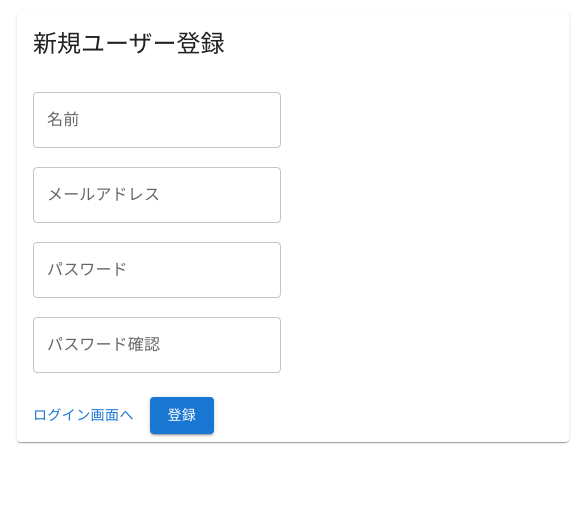
Test: TalkRoomListItem › NewUserPassword › 文字数不足でエラー
Type "hoge" into the field with test id "NewUserPassword" at [157, 270], box [33, 242, 281, 298]
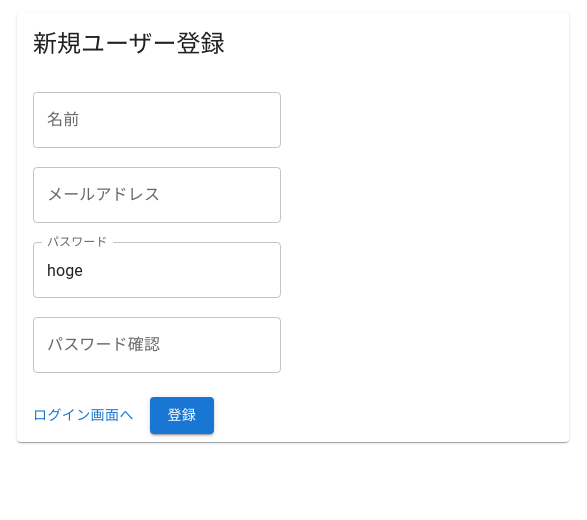
Click the button with test id "submitBtn" at [182, 415], box [150, 397, 214, 434]
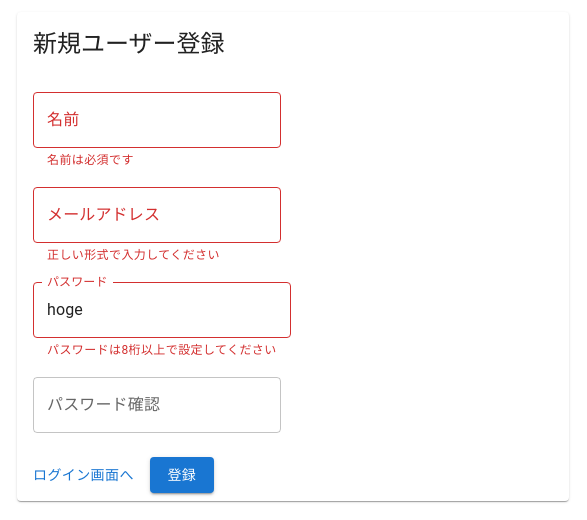
Now the text with test id "NewUserPasswordErr" reads "パスワードは8桁以上で設定してください", box [47, 343, 277, 357]
